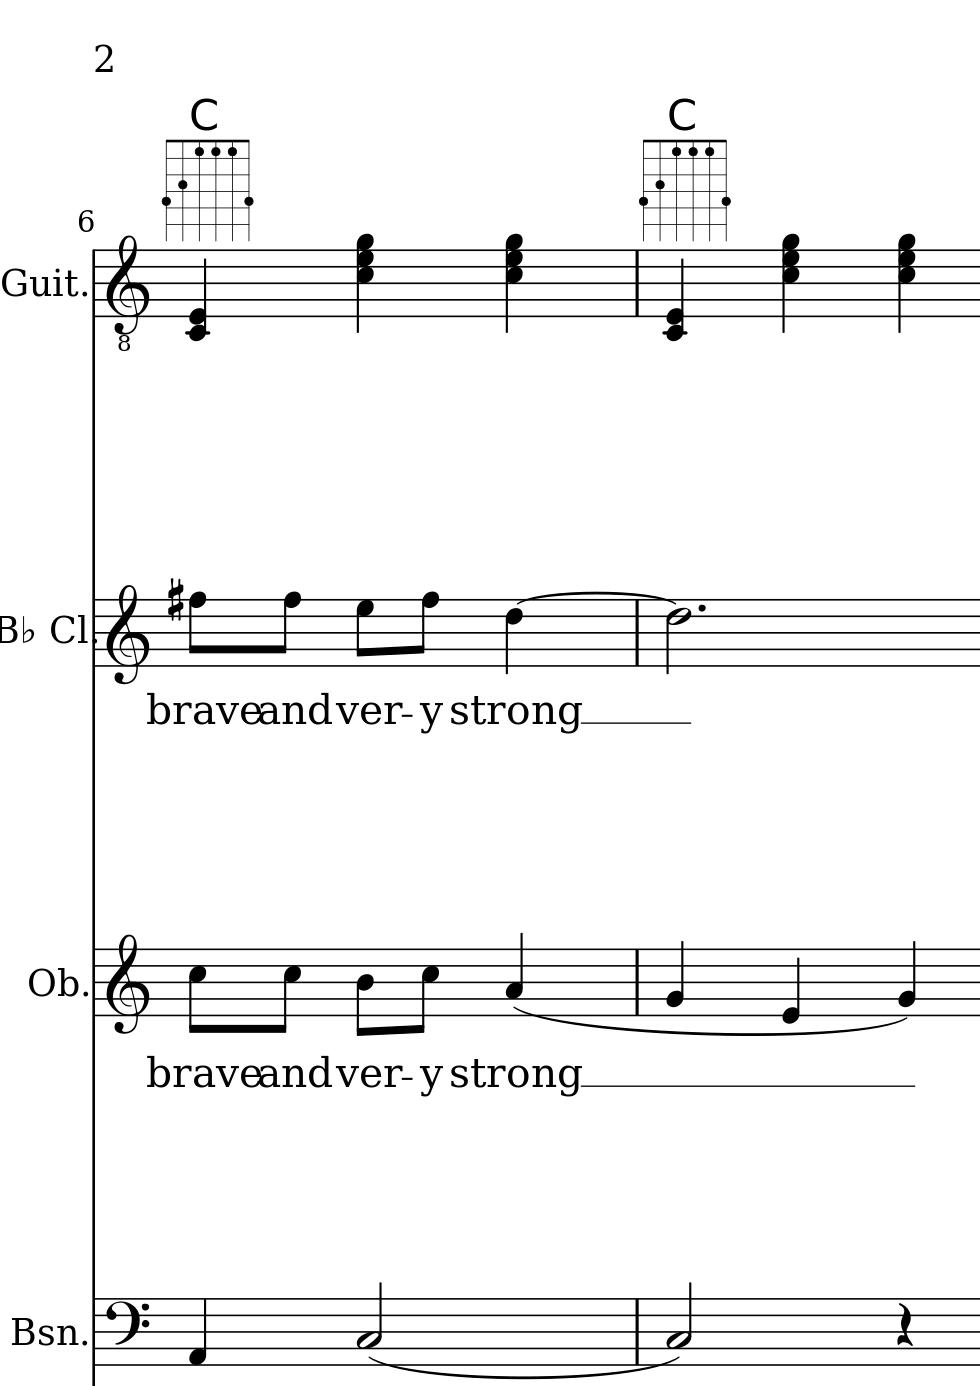2: (92, 42, 115, 74)
2_3: (355, 1279, 384, 1367), (666, 1279, 693, 1366)
2_6: (664, 597, 692, 676)
4_-2_0: (662, 246, 688, 343), (185, 247, 211, 343)
4_0: (778, 946, 803, 1025)
4_1: (185, 1296, 209, 1368)
4_2: (664, 938, 687, 1017), (896, 938, 918, 1016)
4_3: (502, 931, 525, 1017)
4_6: (503, 597, 524, 676)
4_th: (352, 230, 377, 333), (501, 230, 525, 333), (777, 231, 802, 334), (893, 231, 916, 333)
6: (77, 207, 94, 234)
8_4: (353, 946, 377, 1039)
8_5: (273, 946, 302, 1037), (413, 946, 439, 1036), (186, 946, 209, 1036)
8_7: (354, 597, 377, 668)
8_8: (269, 590, 301, 669), (409, 590, 439, 669), (186, 590, 207, 668)
Bsn: (8, 1313, 78, 1353)
Cl: (48, 610, 87, 646)
Fclef: (104, 1297, 151, 1368)
Fretboard: (161, 134, 257, 244), (636, 136, 731, 246)
Gclef: (103, 932, 153, 1040), (103, 583, 150, 686)
Guit: (2, 264, 78, 304)
Lower_Gclef: (106, 234, 150, 353)
Ob: (27, 963, 80, 1003)
Rests4: (894, 1301, 915, 1348)
Sharp: (165, 576, 183, 622)
Single_barline: (628, 601, 648, 666), (629, 251, 645, 317), (629, 1299, 645, 1364), (87, 949, 102, 1017), (88, 599, 102, 668), (629, 950, 644, 1014), (87, 250, 101, 318), (87, 1299, 101, 1365)
Slur: (515, 1006, 910, 1038), (368, 1355, 680, 1380), (517, 592, 675, 610)
dot: (694, 600, 708, 616)
